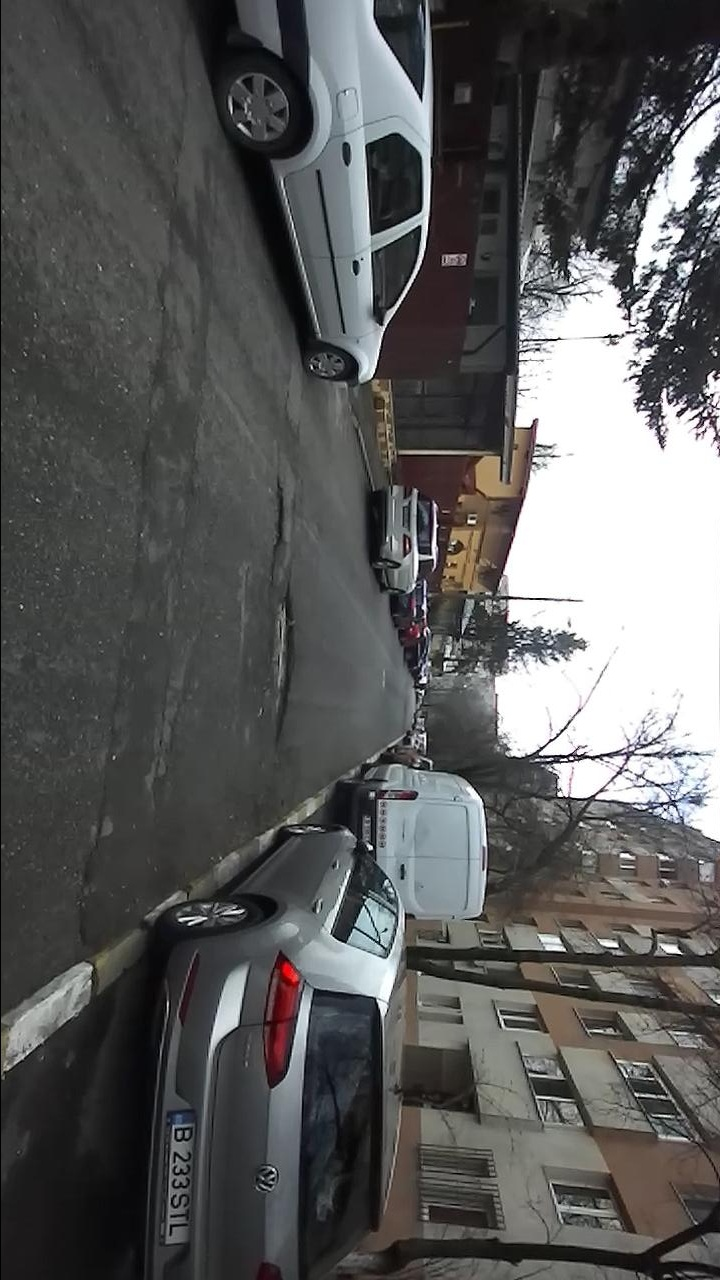pothole: (263, 580, 298, 749), (71, 802, 112, 944), (269, 473, 289, 558)
